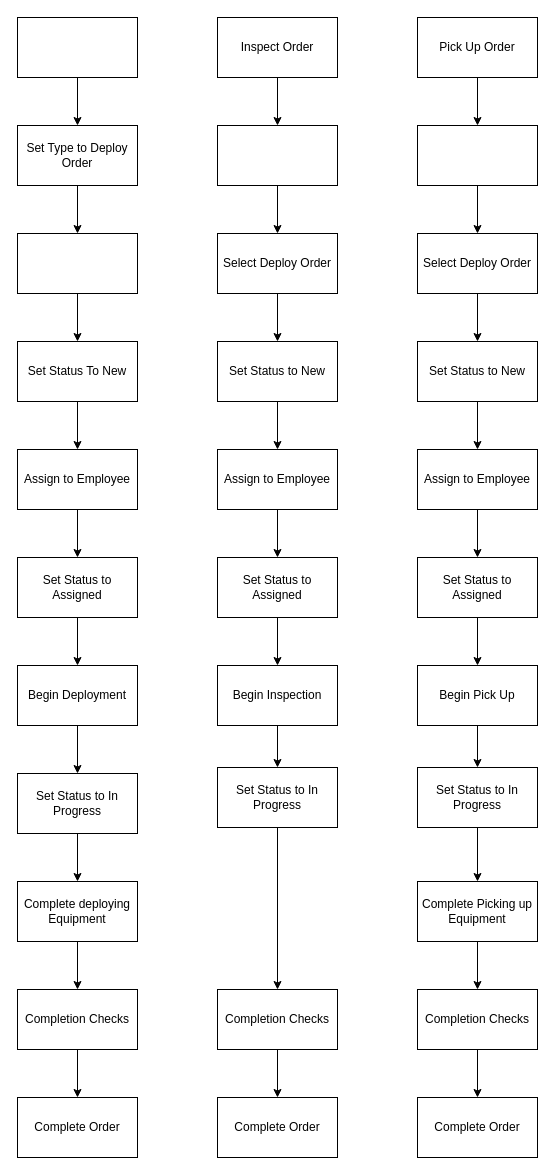
Some shapes in this 555 by 1175 pixel diagram are drawn without their labels. Each missing label, with the centre of its shape:
Add Generic Product Requirements: point 77,263
Deploy Order: point 77,47
Set Type to Inspect Order: point 277,155
Set Type to Pick Up Order: point 477,155
